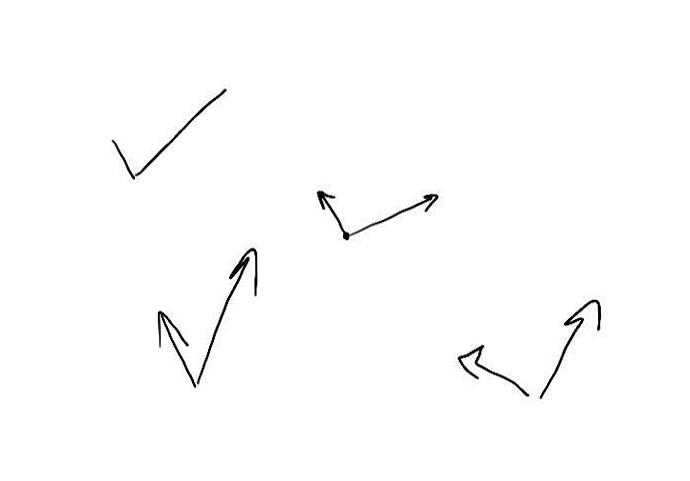arrow: (197, 246, 259, 381), (538, 298, 602, 397), (456, 342, 529, 398), (352, 191, 440, 236), (156, 306, 196, 384), (316, 187, 344, 231)
arrownohead: (136, 88, 226, 173), (111, 139, 134, 179)
